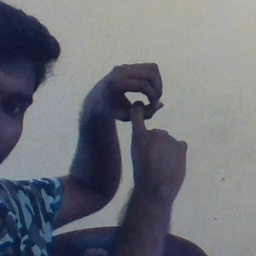Q: (89, 61, 188, 169)
